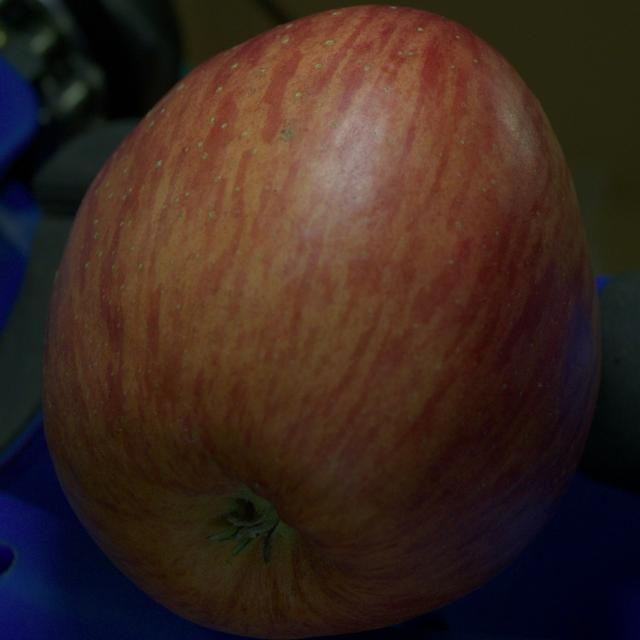apple: (42, 6, 601, 638)
